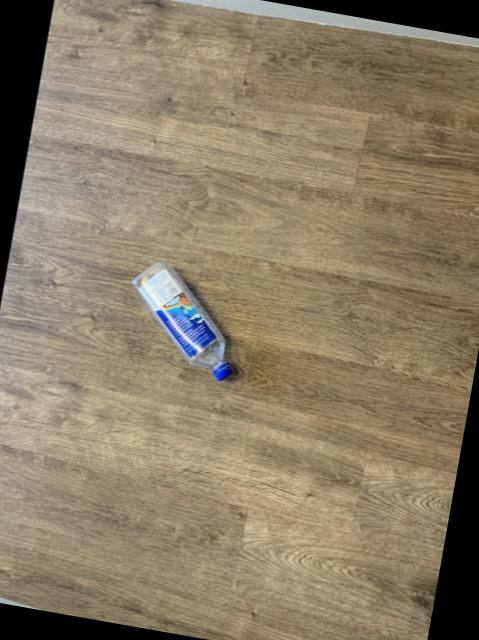plastic: (134, 259, 232, 378)
